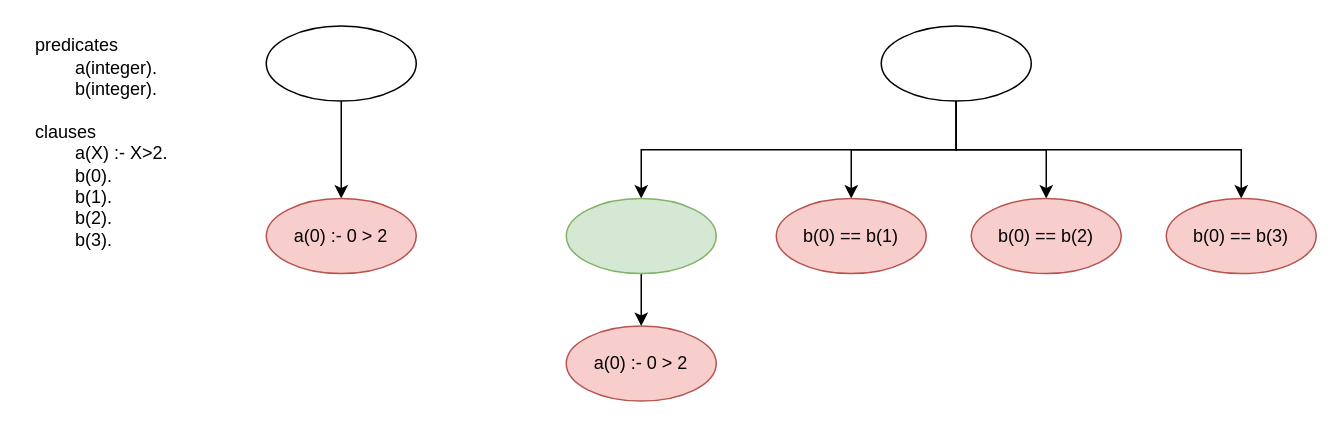
The diagram is 1343 pixels wide and 428 high, and some of its shapes have lost their labels. Each missing label, with the centre of its shape:
a(0), b(0): (x=340, y=63)
b(0) == b(0): (x=640, y=235)
b(0), a(0): (x=955, y=63)
